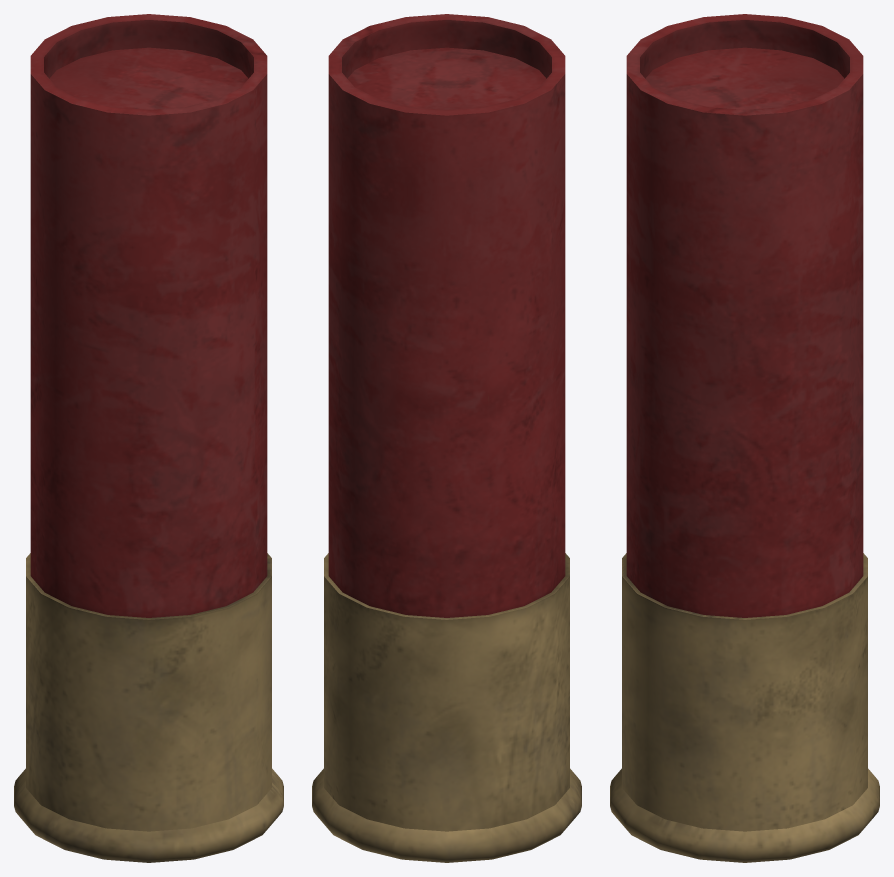
The model's file is 12_70 7mm buckshot.glb.
3 renders of one model, left to right at view 1: azimuth 30°, elevation 25°; view 2: azimuth 150°, elevation 25°; view 3: azimuth 270°, elevation 25°, orthographic.
Parts seen in each view (by area): view 1: 12mm; view 2: 12mm; view 3: 12mm.
Part boxes in pixels (<box>): 12mm: <box>14,14,283,862</box>; 12mm: <box>312,14,581,862</box>; 12mm: <box>610,14,879,862</box>.
Size of the model in its own units: 0.2872 by 0.8661 by 0.2829.
1 material, 1 textured.
